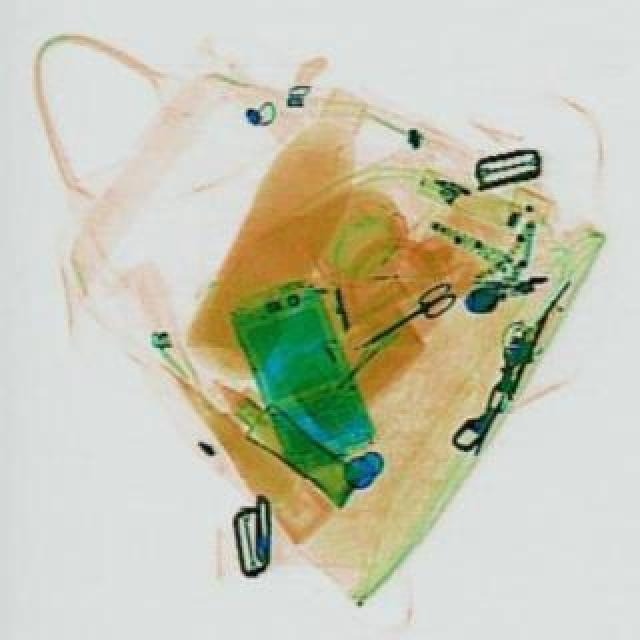pliers: (350, 286, 458, 364)
